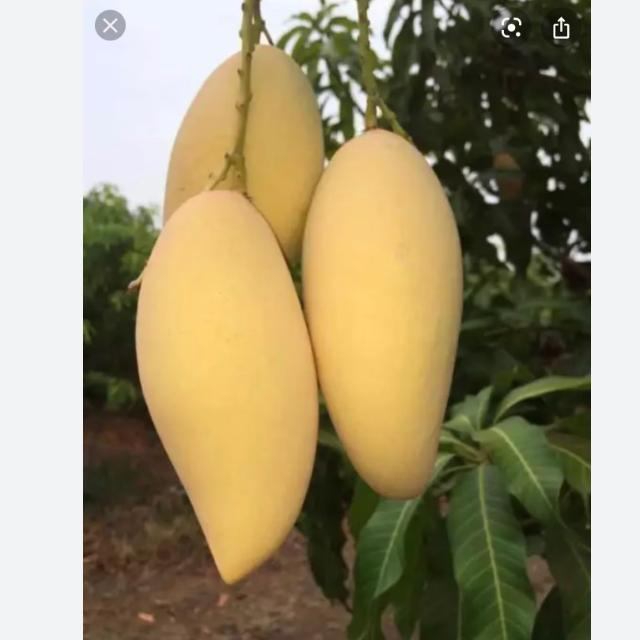mango: (129, 184, 318, 587), (300, 131, 460, 499)
